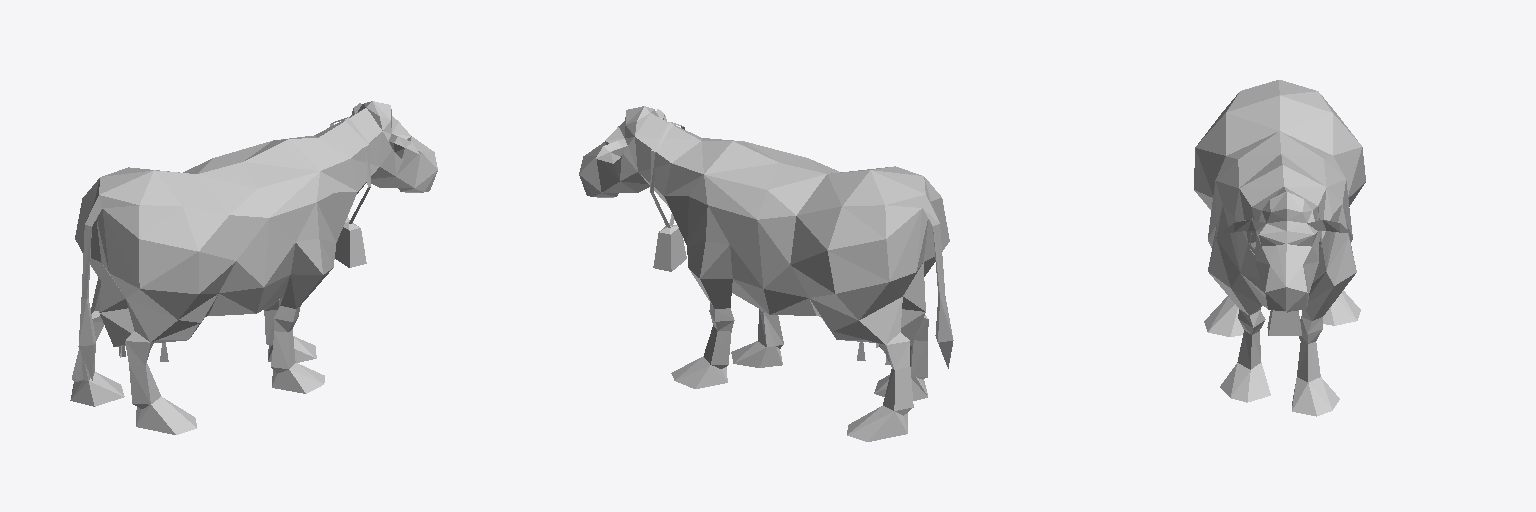
The model's file is Cow.obj.
The picture shows the model from 3 angles: view 1: azimuth 30°, elevation 25°; view 2: azimuth 150°, elevation 25°; view 3: azimuth 270°, elevation 25°; orthographic projection.
Size of the model in its own units: 2.85 by 1.85 by 1.17.